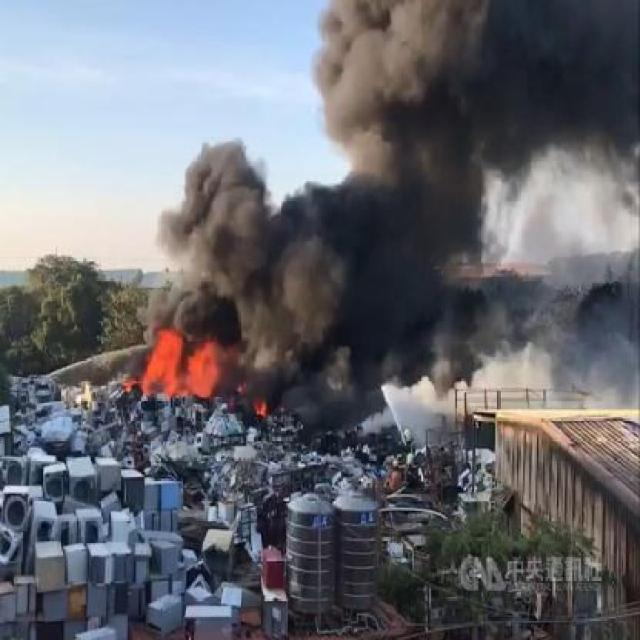Fire: (123, 330, 278, 416)
Smoke: (141, 0, 640, 329)
